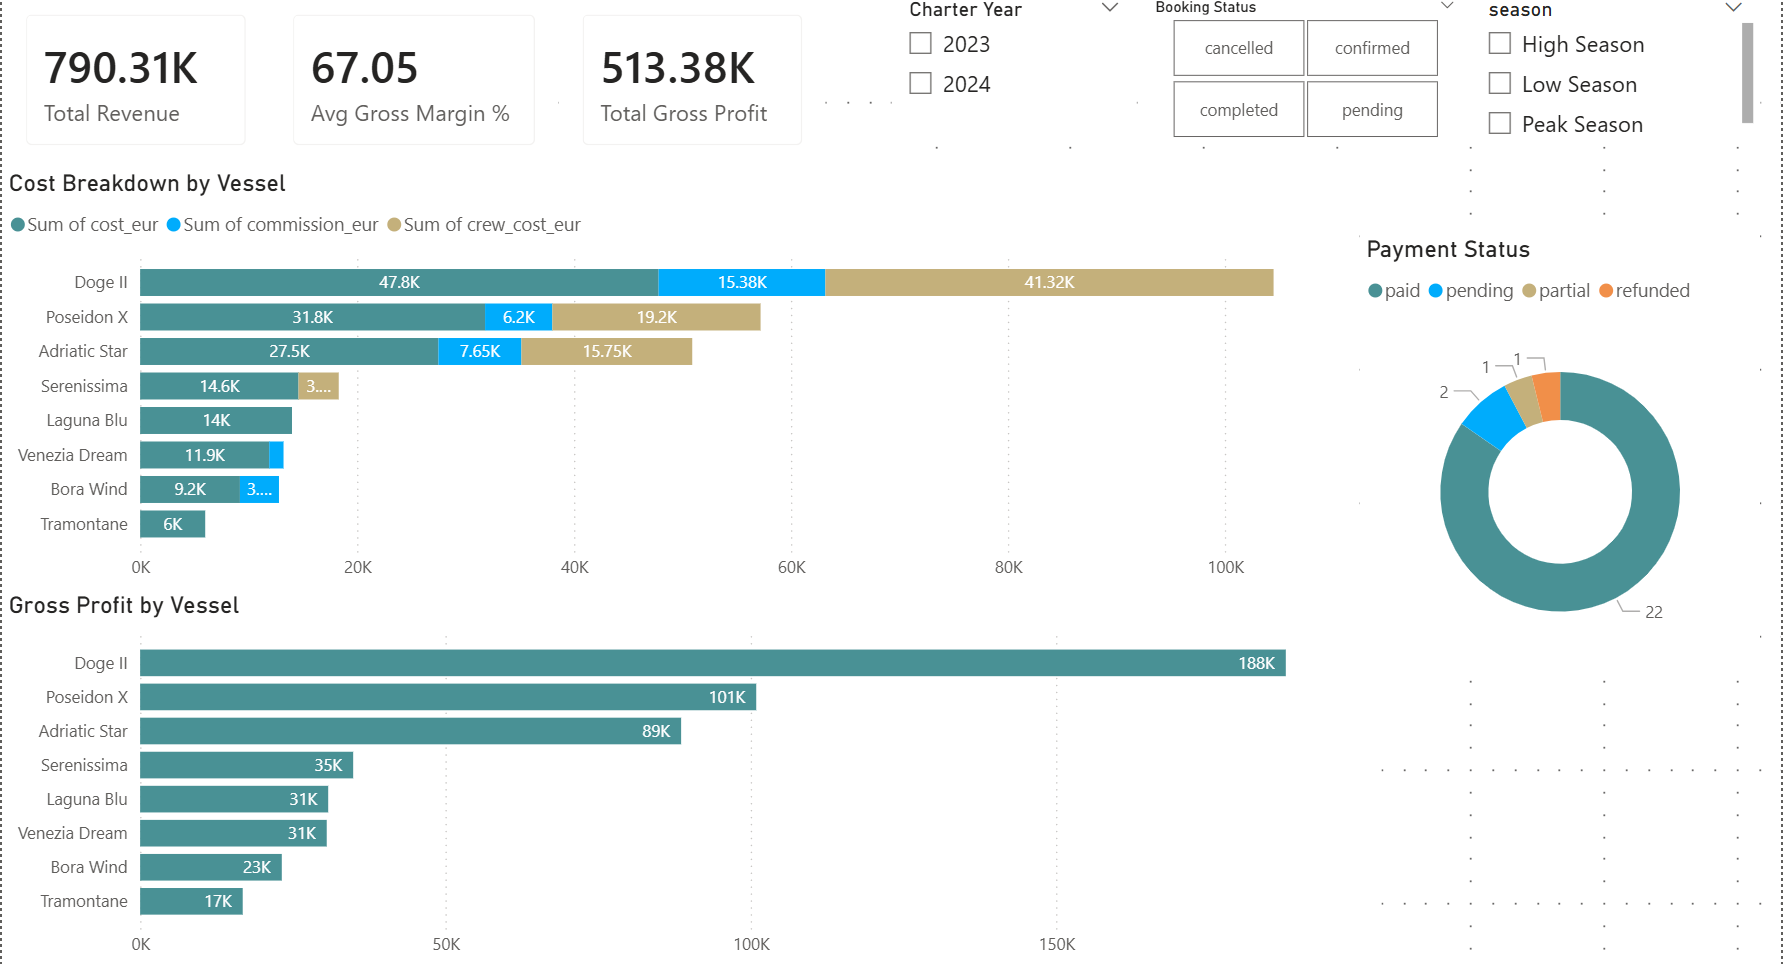

What the dashboard file says about the page in this screenshot:
{"tool":"powerbi","page":{"name":"Financial P&L","canvas":[1280,720],"ordinal":2},"visuals":[{"type":"cardVisual","fields":{"Data":["Sum(public vw_booking_pnl.revenue_eur)"]},"box":[0,16,192,128],"z":0},{"type":"cardVisual","fields":{"Data":["Sum(public vw_booking_pnl.gross_profit_eur)"]},"box":[400,16,192,128],"z":1000},{"type":"cardVisual","fields":{"Data":["Avg(public vw_booking_pnl.gross_margin_pct)"]},"box":[192,16,208,128],"z":2000},{"type":"clusteredBarChart","title":"Gross Profit by Vessel","fields":{"Category":["public vw_booking_pnl.vessel_name"],"Y":["Sum(public vw_booking_pnl.gross_profit_eur)"]},"box":[0,448,992,272],"z":3000},{"type":"barChart","title":"Cost Breakdown by Vessel","fields":{"Category":["public vw_booking_pnl.vessel_name"],"Y":["Sum(public vw_booking_pnl.cost_eur)","Sum(public vw_booking_pnl.commission_eur)","Sum(public vw_booking_pnl.crew_cost_eur)"]},"box":[0,144,976,304],"z":4000},{"type":"donutChart","title":"Payment Status","fields":{"Category":["public vw_booking_pnl.payment_status"],"Y":["CountNonNull(public vw_booking_pnl.booking_id)"]},"box":[976,192,288,320],"z":5000},{"type":"slicer","fields":{"Values":["public vw_bookings_master.charter_year"]},"box":[640,16,176,112],"z":6000},{"type":"slicer","fields":{"Values":["public vw_bookings_master.booking_status"]},"box":[816,16,240,112],"z":7000},{"type":"slicer","fields":{"Values":["public vw_bookings_master.season"]},"box":[1056,16,208,112],"z":8000}]}

Visuals, with their boxes on the page's 1280x720 design canvas (x1, y1, x2, y2). These are canvas units, not pixel positions in the 1783x967 screenshot, which may show the page scaled, cropped or inside an application window:
cardVisual - Sum(public vw_booking_pnl.revenue_eur): BBox(0, 16, 192, 144)
cardVisual - Sum(public vw_booking_pnl.gross_profit_eur): BBox(400, 16, 592, 144)
cardVisual - Avg(public vw_booking_pnl.gross_margin_pct): BBox(192, 16, 400, 144)
"Gross Profit by Vessel" clusteredBarChart: BBox(0, 448, 992, 720)
"Cost Breakdown by Vessel" barChart: BBox(0, 144, 976, 448)
"Payment Status" donutChart: BBox(976, 192, 1264, 512)
slicer - public vw_bookings_master.charter_year: BBox(640, 16, 816, 128)
slicer - public vw_bookings_master.booking_status: BBox(816, 16, 1056, 128)
slicer - public vw_bookings_master.season: BBox(1056, 16, 1264, 128)
